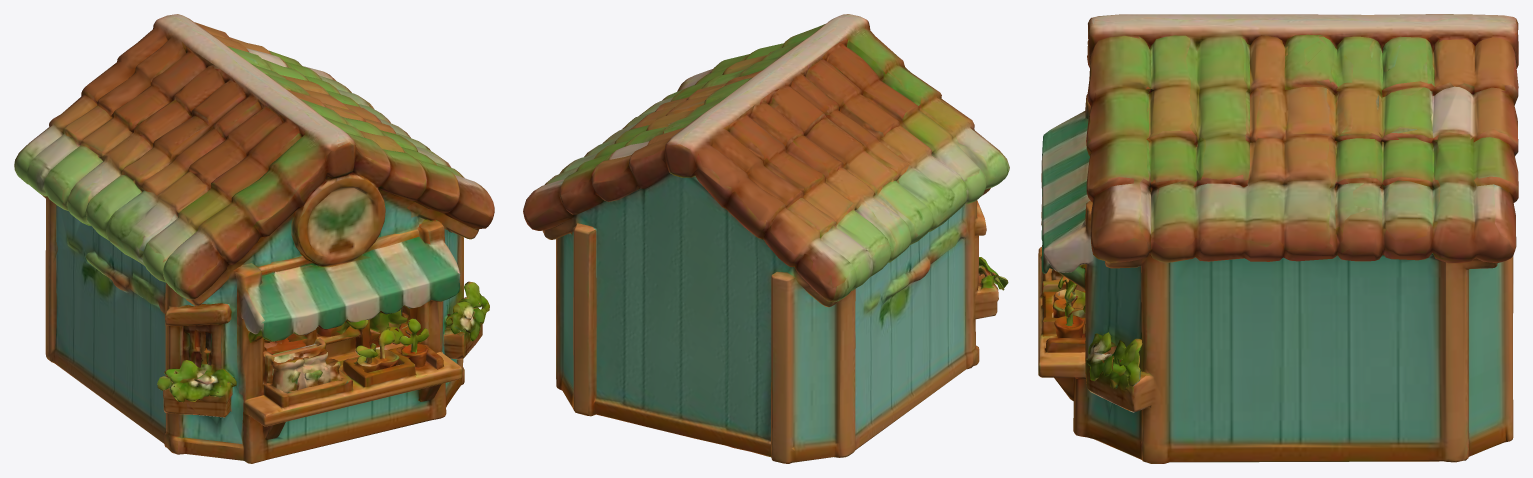
The model's file is seed_shop.glb.
3 views of the same model, side by side, from view 1: azimuth 30°, elevation 25°; view 2: azimuth 150°, elevation 25°; view 3: azimuth 270°, elevation 25° (orthographic). The views are drawn at different scales.
Visible parts, largest first — view 1: textured_mesh.obj; view 2: textured_mesh.obj; view 3: textured_mesh.obj.
Boxes of the visible parts, <box> form: textured_mesh.obj: <box>14,14,494,463</box>; textured_mesh.obj: <box>523,14,1009,463</box>; textured_mesh.obj: <box>1038,14,1518,463</box>.
Size of what is drawn, in the model's own units: 4.2 by 3.6 by 4.34.
1 material, 1 textured.
